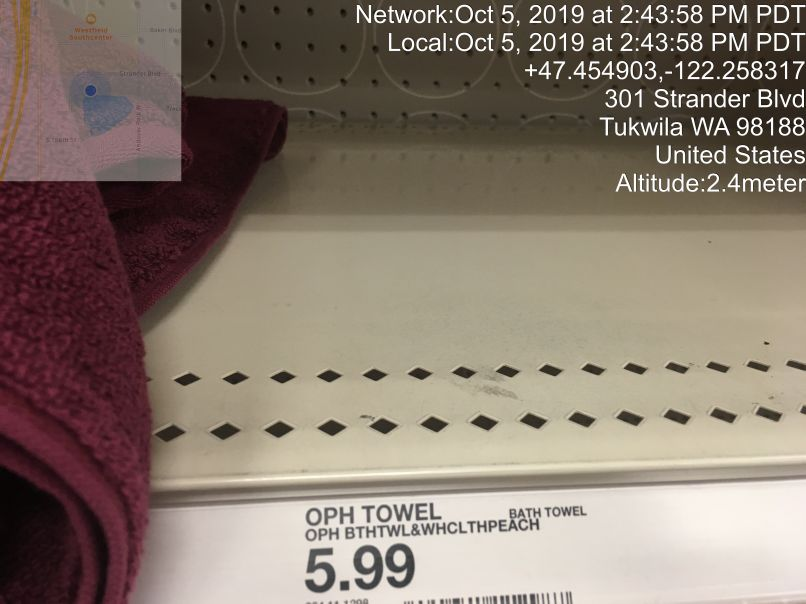Label: (286, 494, 617, 604)
Location: (594, 85, 806, 169)
Time: (350, 1, 806, 57)
Void: (220, 43, 798, 449)
